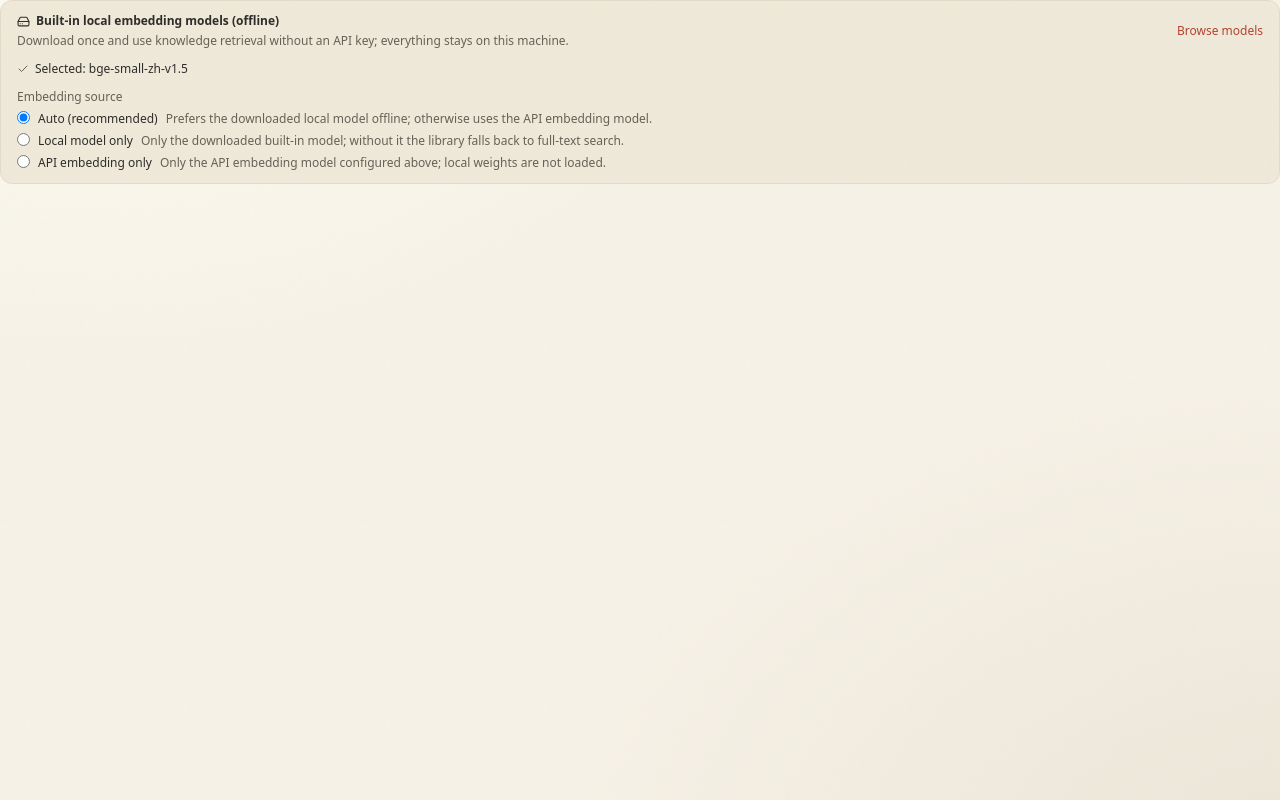
Scenario: local embedding card selected-model readiness › localizes the model metadata line through the locale store
Click the button "Browse models": (1220, 31) [1177,23,1263,39]
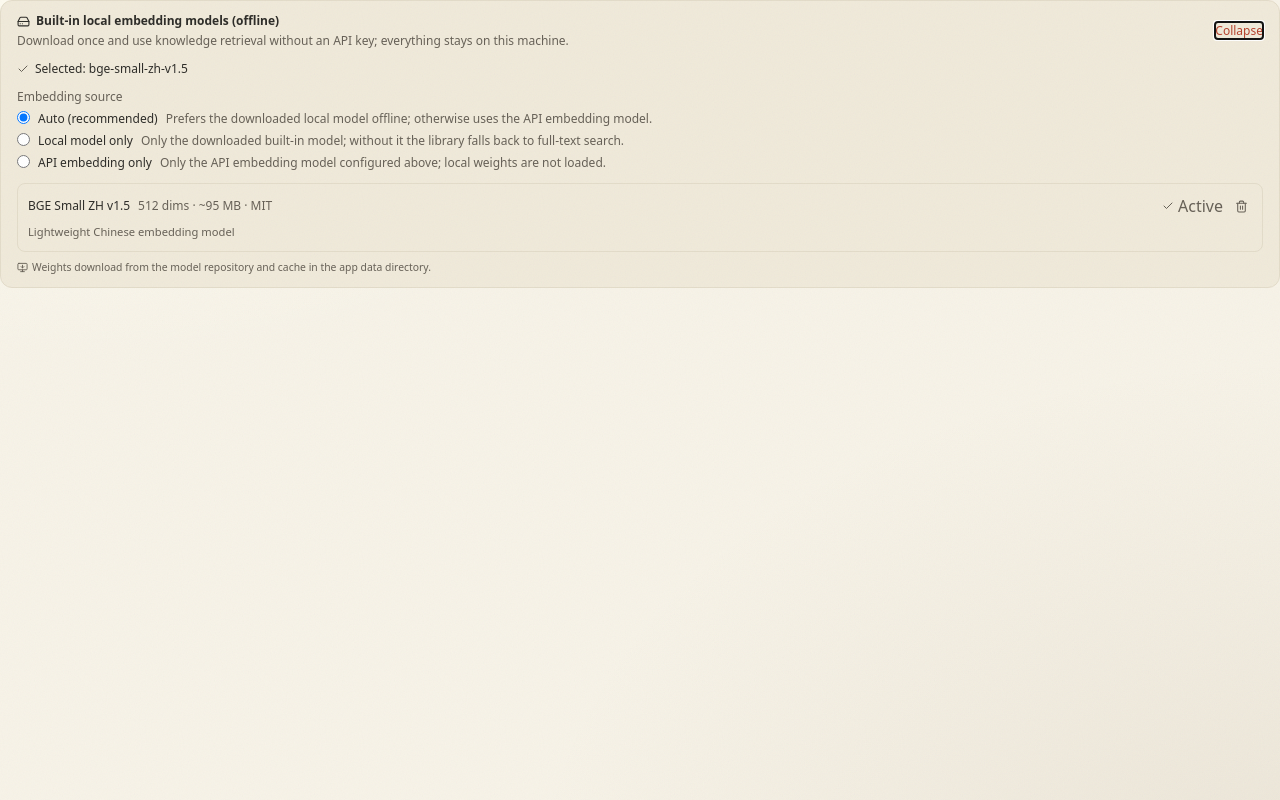
Expected: the text "512 dims · ~95 MB · MIT" is shown, [138,197,272,214]
